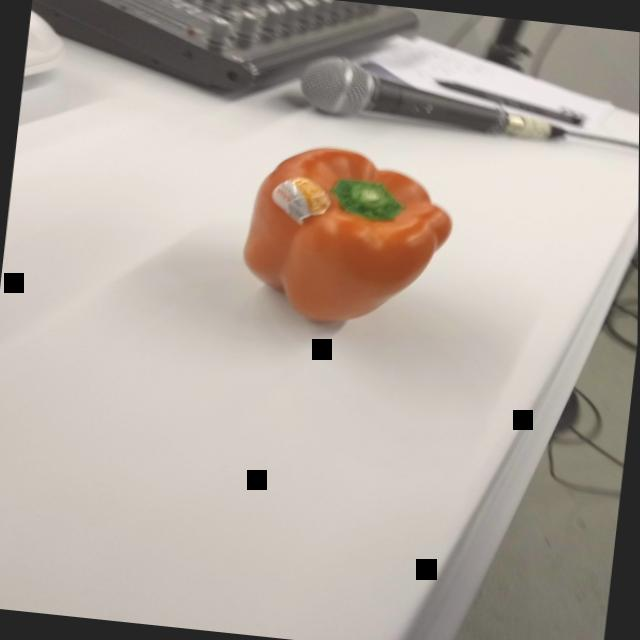paprika: (229, 134, 469, 338)
